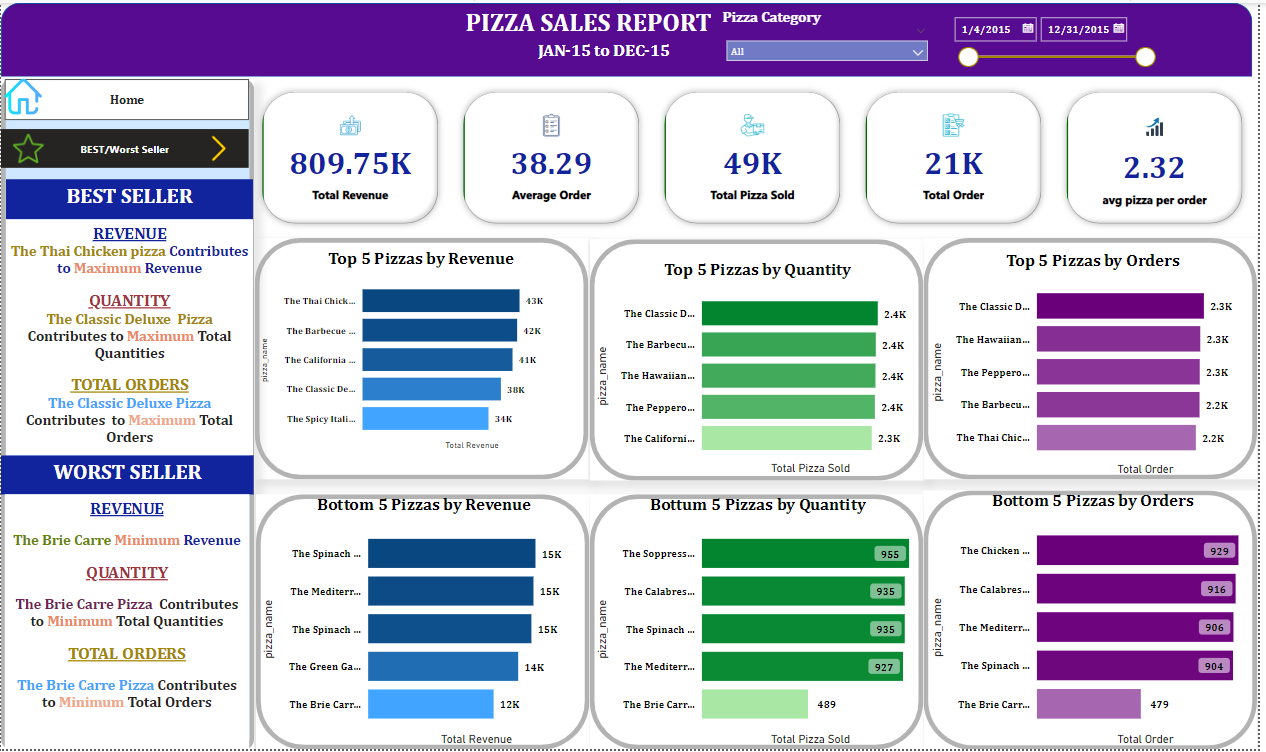

This screenshot's page, from the dashboard's own definition file:
{"tool":"powerbi","page":{"name":"BEST/Worst Seller","canvas":[1600,950],"ordinal":1},"visuals":[{"type":"cardVisual","fields":{"Data":["pizza_db pizza_sales.Total Revenue","pizza_db pizza_sales.Average Order","pizza_db pizza_sales.Total Pizza Sold","pizza_db pizza_sales.Total Order","pizza_db pizza_sales.avg pizza per order"]},"box":[316.7,97.1,1282.6,200.5],"z":0},{"type":"shape","box":[0,0,1592.9,93.9],"z":1000},{"type":"textbox","box":[564.4,0,366.1,65.2],"z":2000},{"type":"textbox","box":[654.4,43.3,226.5,51.6],"z":3000},{"type":"shape","box":[323.3,298.4,424.5,307.3],"z":4000},{"type":"shape","box":[0,96.8,322.2,853.2],"z":5000},{"type":"textbox","box":[7.1,223.8,314.4,51.5],"z":6000},{"type":"textbox","box":[7.1,275.3,314.4,300.2],"z":7000},{"type":"textbox","box":[0,575.5,321.5,49.7],"z":8000},{"type":"textbox","box":[5.3,625.2,310.8,325],"z":9000},{"type":"slicer","title":"Pizza Category","fields":{"Values":["pizza_db pizza_sales.order_date"]},"box":[1201.7,8.5,276.8,89],"z":10000},{"type":"slicer","title":"Pizza Category","fields":{"Values":["pizza_db pizza_sales.pizza_category"]},"box":[913.6,7.1,276.8,89],"z":11000},{"type":"barChart","title":"Top 5 Pizzas by Revenue","fields":{"Category":["pizza_db pizza_sales.pizza_name"],"Y":["pizza_db pizza_sales.Total Revenue"]},"box":[324.6,311.9,420.1,262.6],"z":12000},{"type":"shape","box":[749.6,300.2,424.5,307.3],"z":13000},{"type":"shape","box":[1174.1,298.4,424.5,307.3],"z":14000},{"type":"shape","box":[325,625.2,424.5,325],"z":15000},{"type":"shape","box":[749.6,625.2,424.5,325],"z":16000},{"type":"shape","box":[1174.1,619.9,424.5,330.4],"z":17000},{"type":"barChart","title":"Bottom 5 Pizzas by Revenue","fields":{"Category":["pizza_db pizza_sales.pizza_name"],"Y":["pizza_db pizza_sales.Total Revenue"]},"box":[328.6,625.2,421,325],"z":18000},{"type":"barChart","title":"Top 5 Pizzas by Quantity","fields":{"Category":["pizza_db pizza_sales.pizza_name"],"Y":["pizza_db pizza_sales.Total Pizza Sold"]},"box":[753.1,326.8,421,278.9],"z":19000},{"type":"barChart","title":"Bottum 5 Pizzas by Quantity","fields":{"Category":["pizza_db pizza_sales.pizza_name"],"Y":["pizza_db pizza_sales.Total Pizza Sold"]},"box":[753.1,625.2,421,325],"z":20000},{"type":"barChart","title":"Top 5 Pizzas by Orders","fields":{"Category":["pizza_db pizza_sales.pizza_name"],"Y":["pizza_db pizza_sales.Total Order"]},"box":[1179.4,314.4,421,291.3],"z":21000},{"type":"barChart","title":"Bottom 5 Pizzas by Orders","fields":{"Category":["pizza_db pizza_sales.pizza_name"],"Y":["pizza_db pizza_sales.Total Order"]},"box":[1179.4,619.9,421,330.4],"z":22000},{"type":"pageNavigator","box":[4.8,97.1,311.9,52.5],"z":23000},{"type":"pageNavigator","box":[0,160.7,315.1,49.3],"z":24000},{"type":"image","box":[256.2,160.7,43,49.3],"z":25000},{"type":"image","box":[0,89.1,57.3,60.5],"z":26000},{"type":"image","box":[0,160.7,70,49.3],"z":27000}]}

Visuals, with their boxes in screenshot pixels (x1, y1, x2, y2), scaled from the page's 1600x950 canvas onto the 1266x752 screenshot:
cardVisual - pizza_db pizza_sales.Total Revenue x pizza_db pizza_sales.Average Order: left=251, top=77, right=1265, bottom=236
shape: left=0, top=0, right=1260, bottom=74
textbox: left=447, top=0, right=736, bottom=52
textbox: left=518, top=34, right=697, bottom=75
shape: left=256, top=236, right=592, bottom=479
shape: left=0, top=77, right=255, bottom=751
textbox: left=6, top=177, right=254, bottom=218
textbox: left=6, top=218, right=254, bottom=456
textbox: left=0, top=456, right=254, bottom=495
textbox: left=4, top=495, right=250, bottom=751
"Pizza Category" slicer: left=951, top=7, right=1170, bottom=77
"Pizza Category" slicer: left=723, top=6, right=942, bottom=76
"Top 5 Pizzas by Revenue" barChart: left=257, top=247, right=589, bottom=455
shape: left=593, top=238, right=929, bottom=481
shape: left=929, top=236, right=1265, bottom=479
shape: left=257, top=495, right=593, bottom=751
shape: left=593, top=495, right=929, bottom=751
shape: left=929, top=491, right=1265, bottom=751
"Bottom 5 Pizzas by Revenue" barChart: left=260, top=495, right=593, bottom=751
"Top 5 Pizzas by Quantity" barChart: left=596, top=259, right=929, bottom=479
"Bottum 5 Pizzas by Quantity" barChart: left=596, top=495, right=929, bottom=751
"Top 5 Pizzas by Orders" barChart: left=933, top=249, right=1265, bottom=479
"Bottom 5 Pizzas by Orders" barChart: left=933, top=491, right=1265, bottom=751
pageNavigator: left=4, top=77, right=251, bottom=118
pageNavigator: left=0, top=127, right=249, bottom=166
image: left=203, top=127, right=237, bottom=166
image: left=0, top=71, right=45, bottom=118
image: left=0, top=127, right=55, bottom=166
